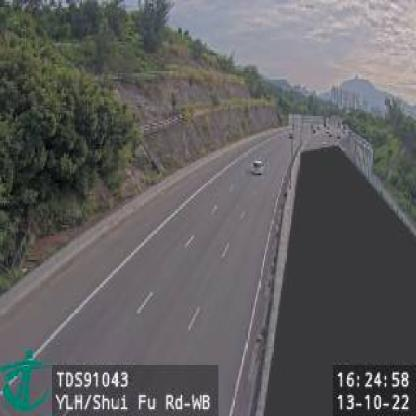Car: (252, 158, 266, 175)
